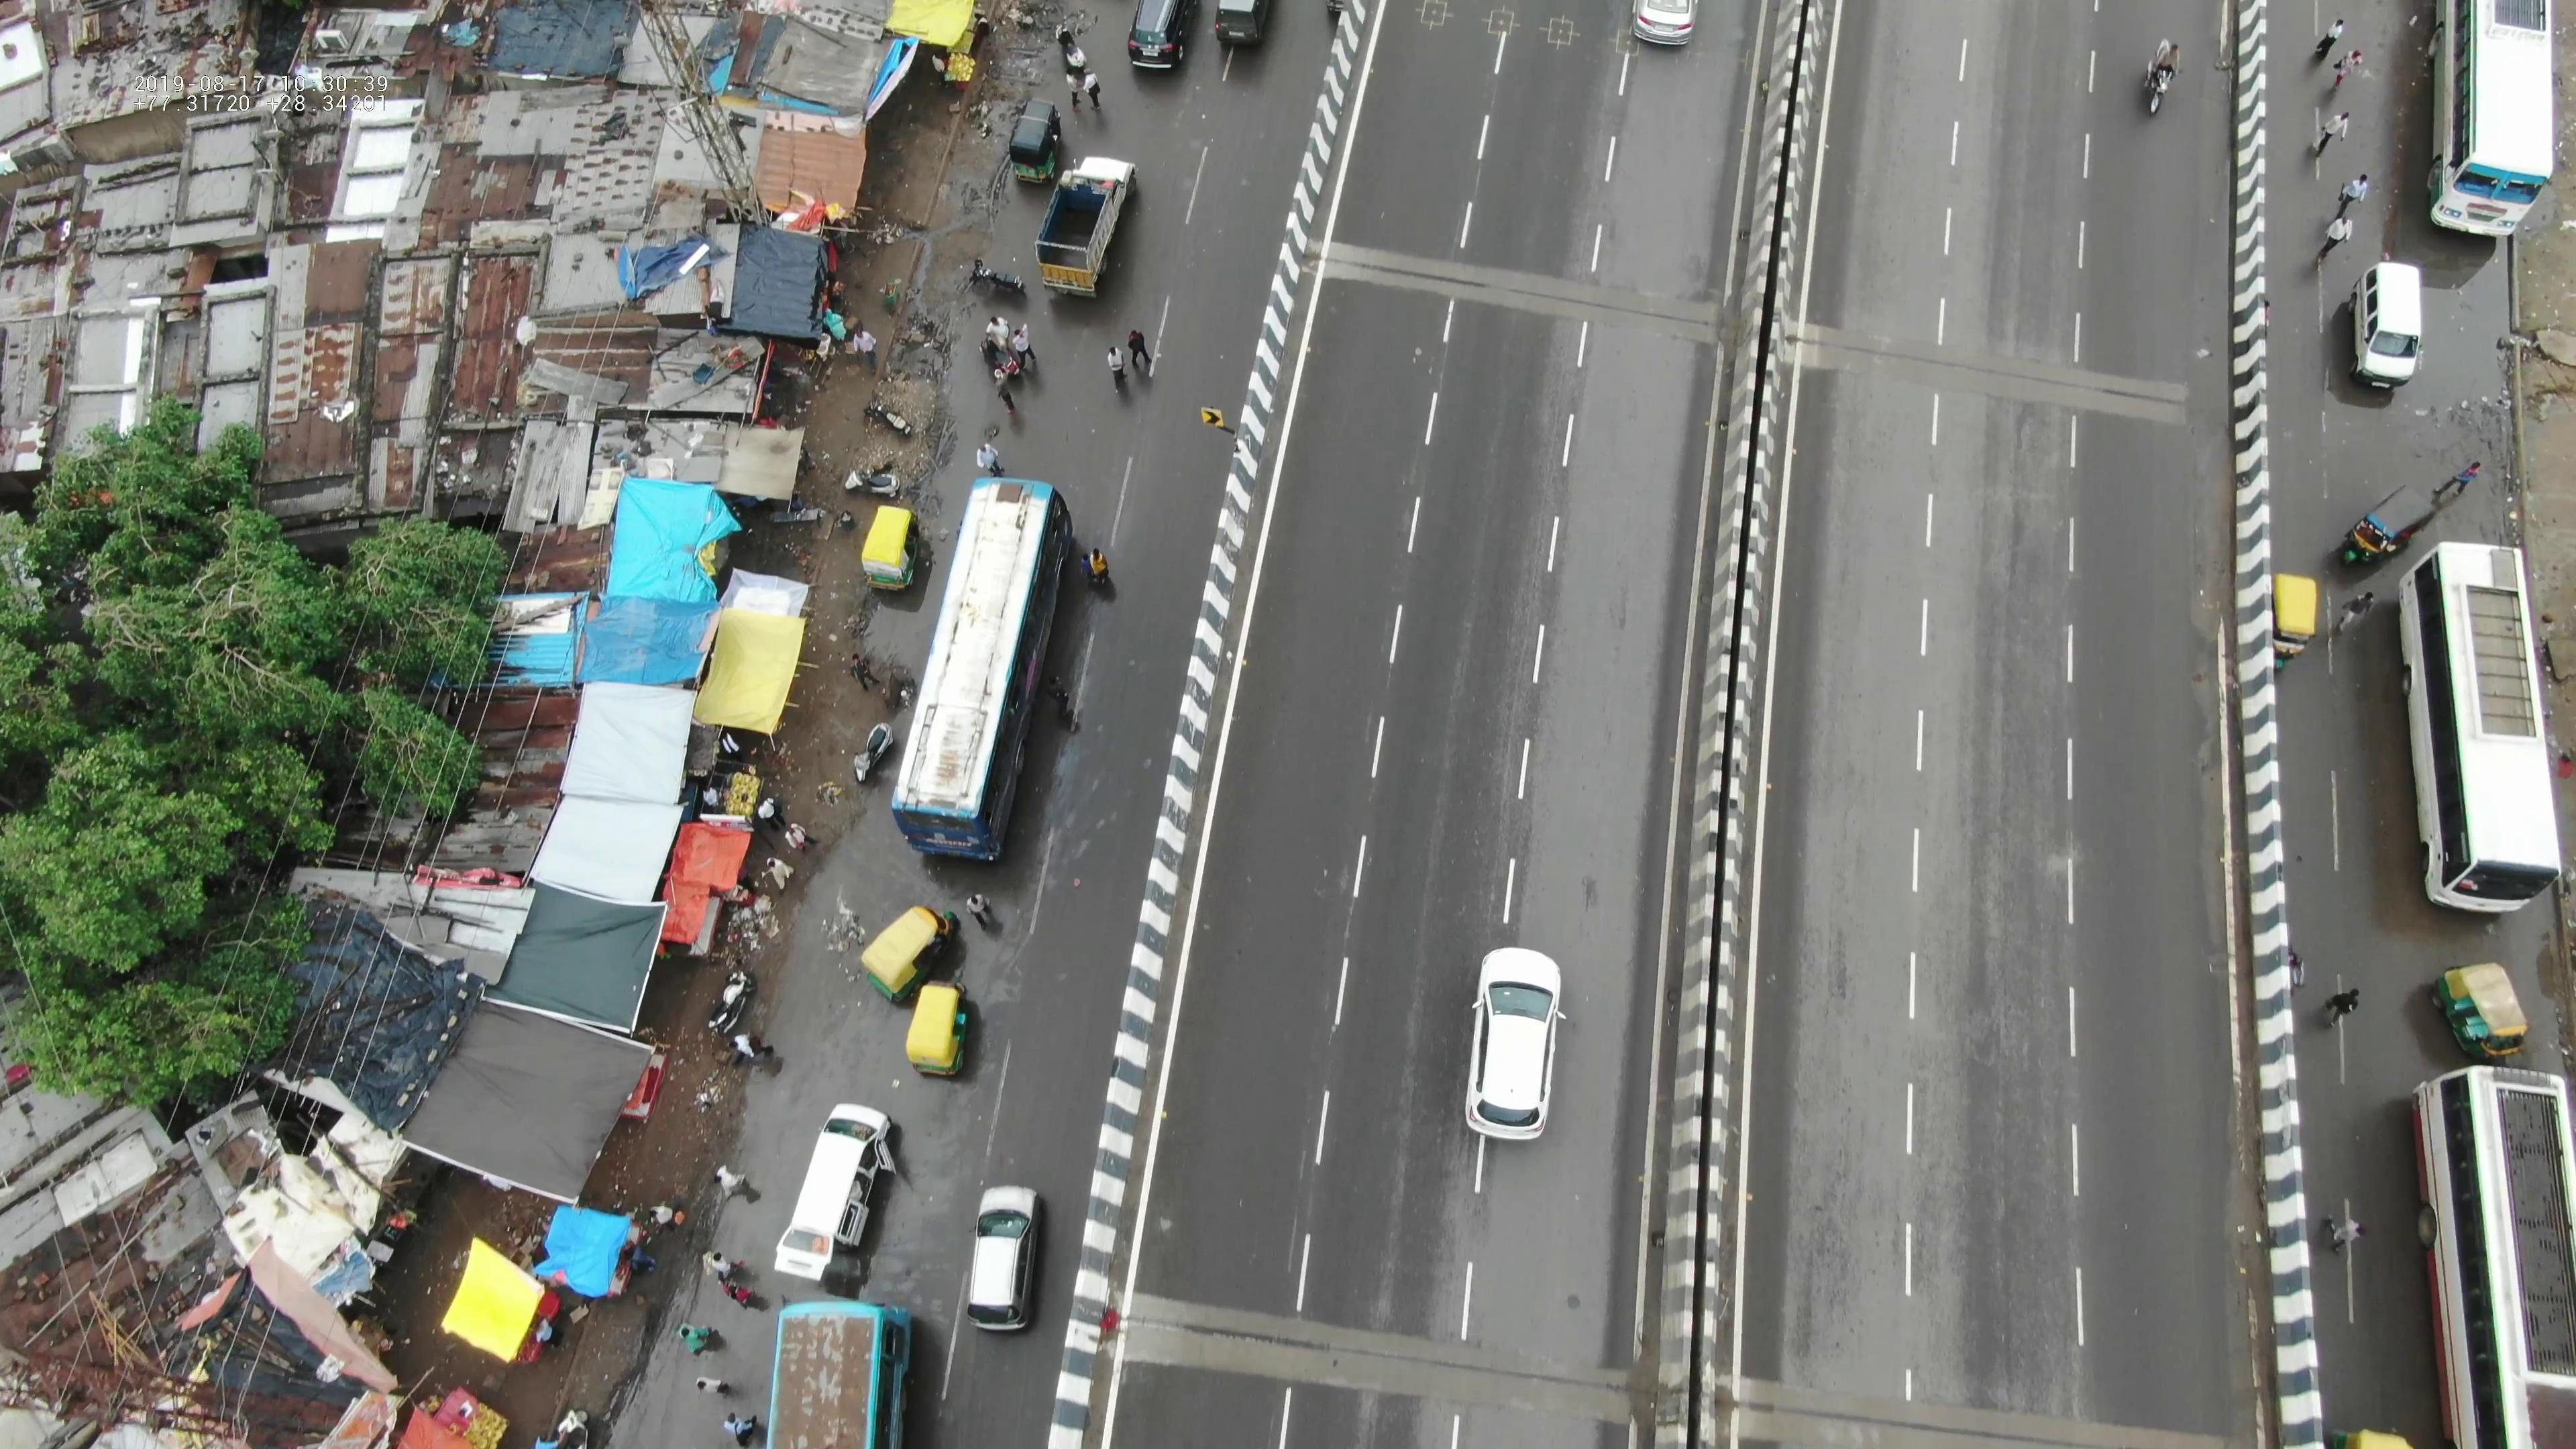Potholes: (1039, 747, 1146, 856), (870, 1253, 970, 1329)
